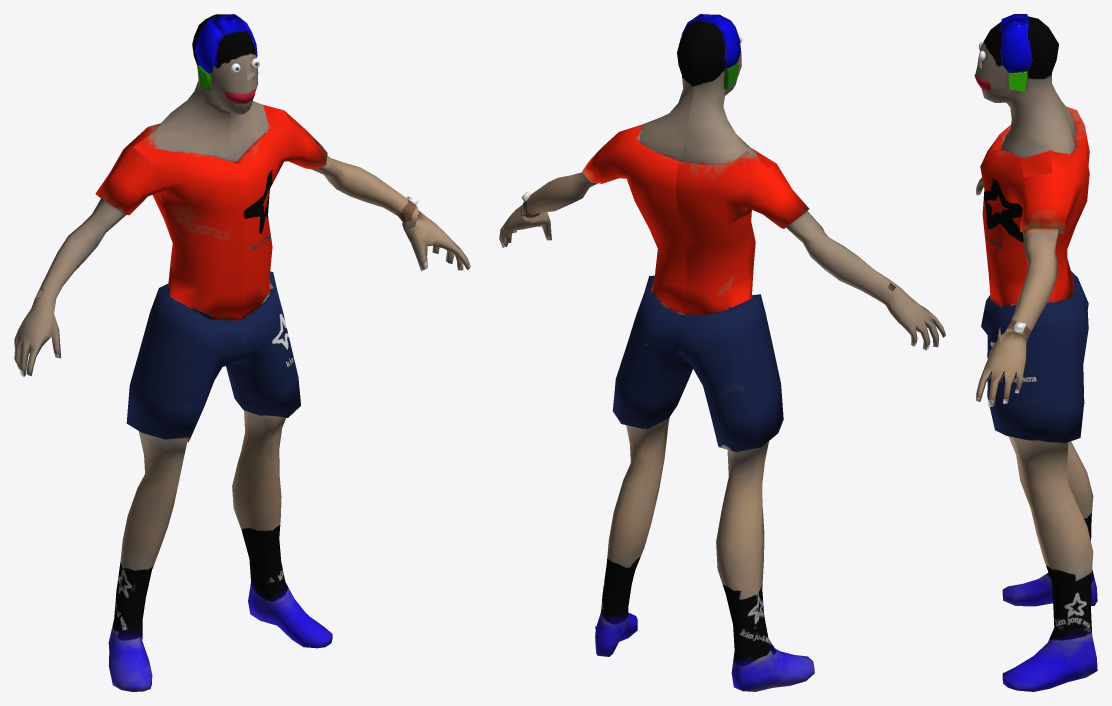
Rendered from human done hero.obj.
3 views of the same model, side by side, from view 1: azimuth 30°, elevation 25°; view 2: azimuth 150°, elevation 25°; view 3: azimuth 270°, elevation 25° (orthographic). The views are drawn at different scales.
Visible parts, largest first — view 1: group2_pasted__pasted__polySurface7_pasted__polySurface2; view 2: group2_pasted__pasted__polySurface7_pasted__polySurface2; view 3: group2_pasted__pasted__polySurface7_pasted__polySurface2.
Part boxes in pixels (box(x1,y1,x2,y2)): group2_pasted__pasted__polySurface7_pasted__polySurface2: box(14, 14, 470, 691); group2_pasted__pasted__polySurface7_pasted__polySurface2: box(499, 14, 945, 691); group2_pasted__pasted__polySurface7_pasted__polySurface2: box(974, 14, 1097, 691).
Size of the model in its own units: 126 by 176 by 31.35.
Materials: 2 (2 with a texture image).
